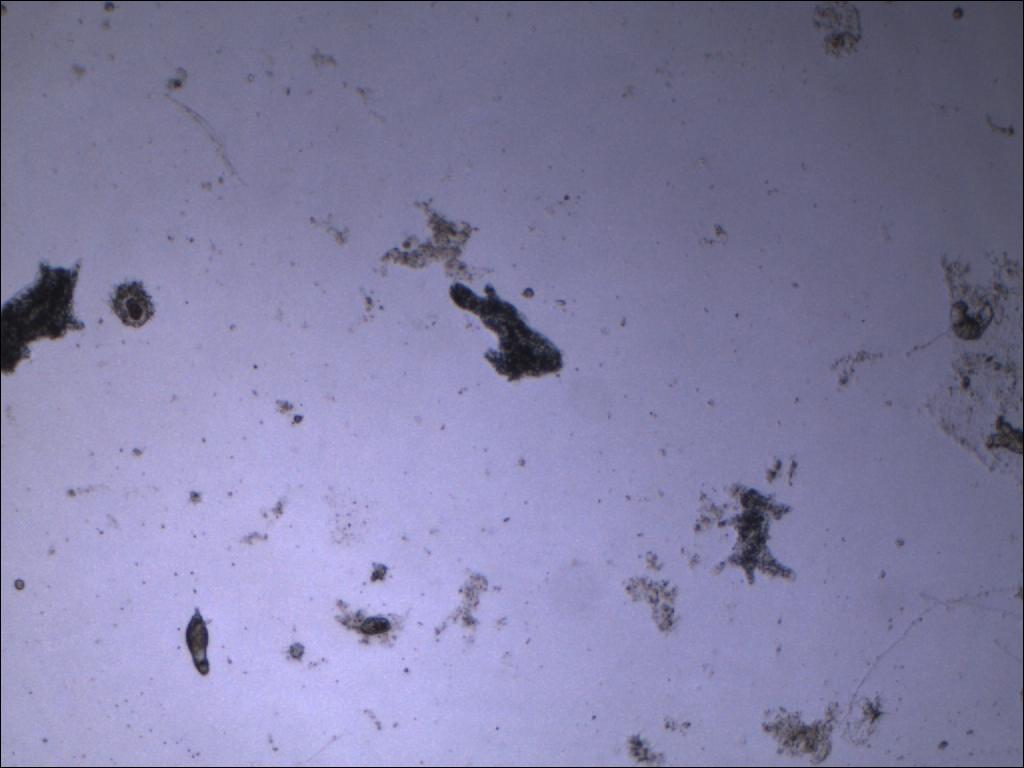amoeba: (442, 276, 569, 389), (1, 250, 98, 388), (709, 485, 805, 593)
